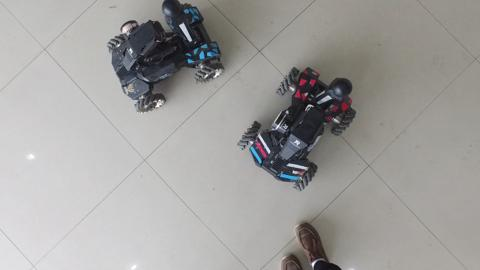chariot: (233, 62, 361, 199), (97, 1, 231, 118)
